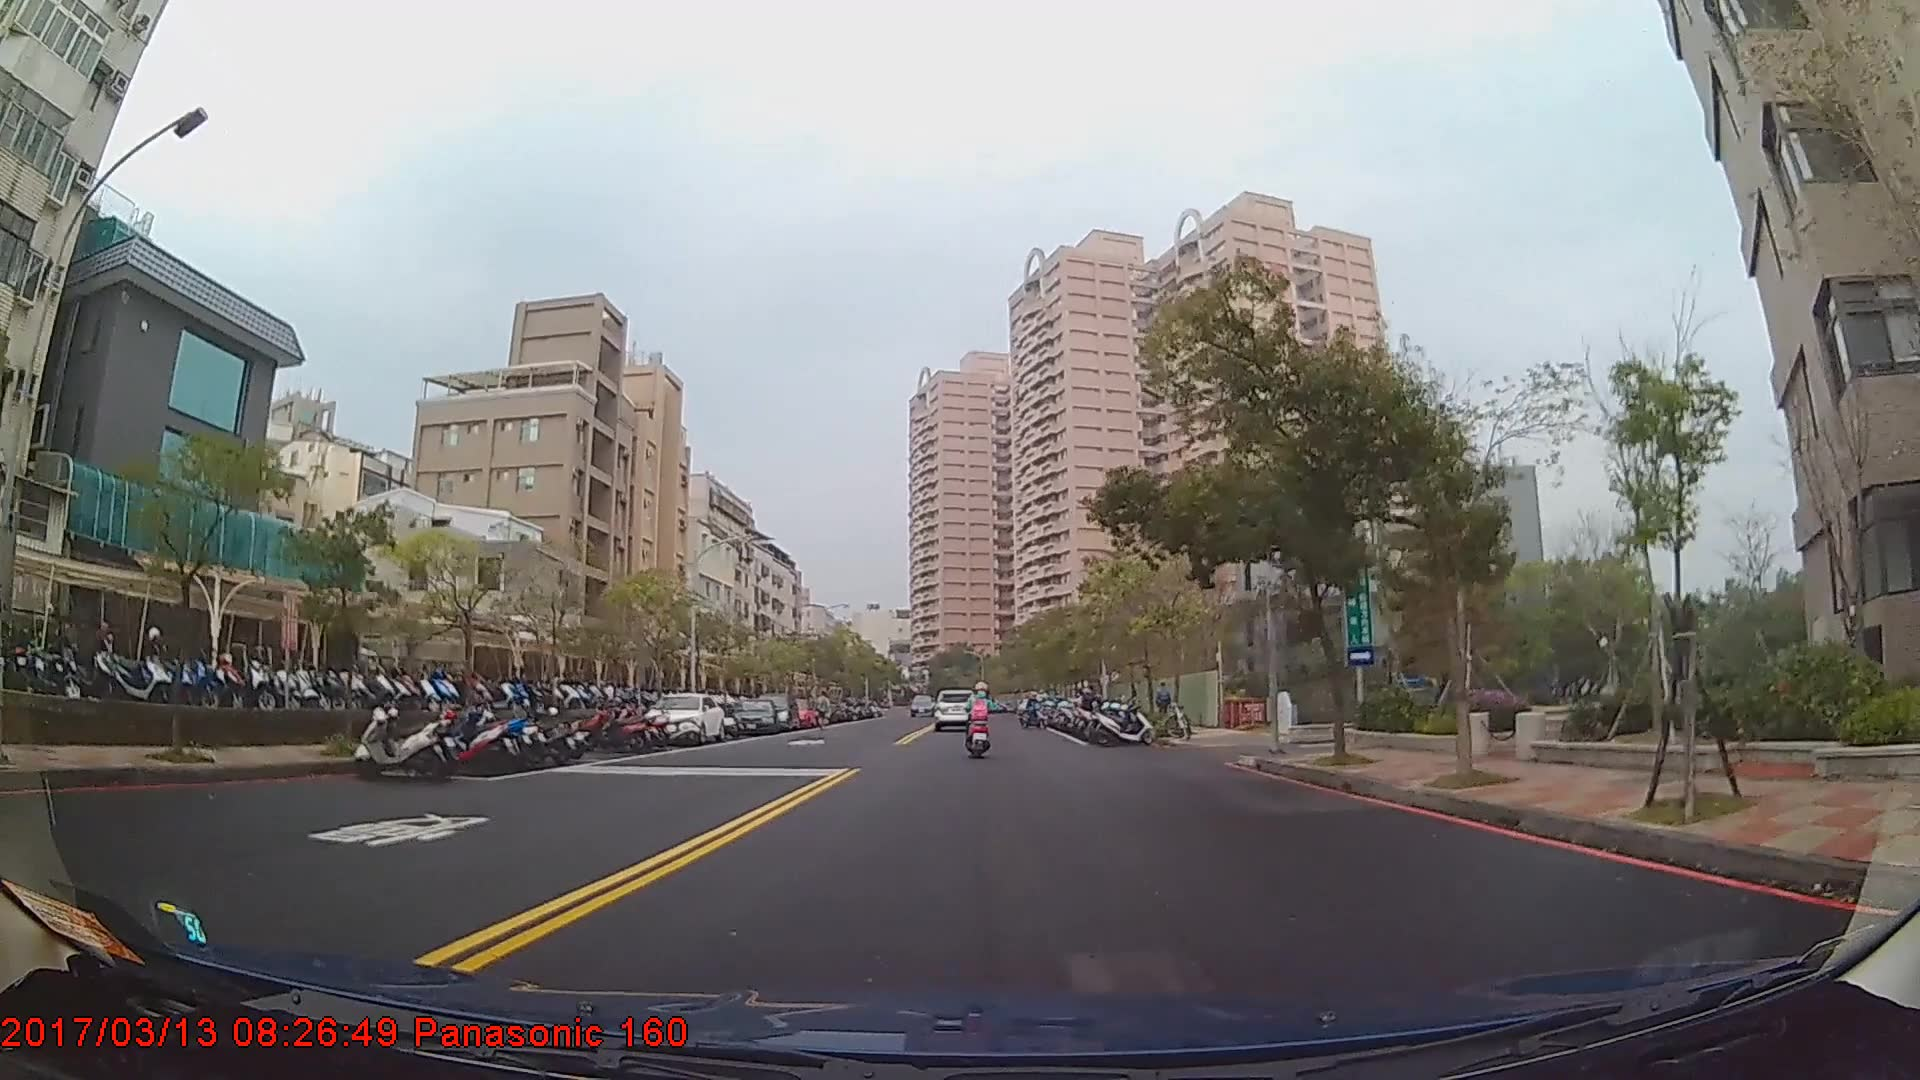pedestrian: (1152, 680, 1176, 736)
rider: (966, 683, 997, 758)
vehicle: (641, 690, 725, 743), (929, 686, 979, 730), (728, 698, 780, 736), (750, 694, 798, 736), (907, 693, 935, 716)
